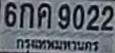0: (72, 4, 83, 29)
2: (100, 5, 113, 30), (86, 4, 98, 29)
6: (4, 1, 16, 26)
9: (58, 3, 70, 28)
A01: (19, 2, 33, 27)
A04: (37, 2, 51, 28)
BKK: (14, 36, 100, 53)
